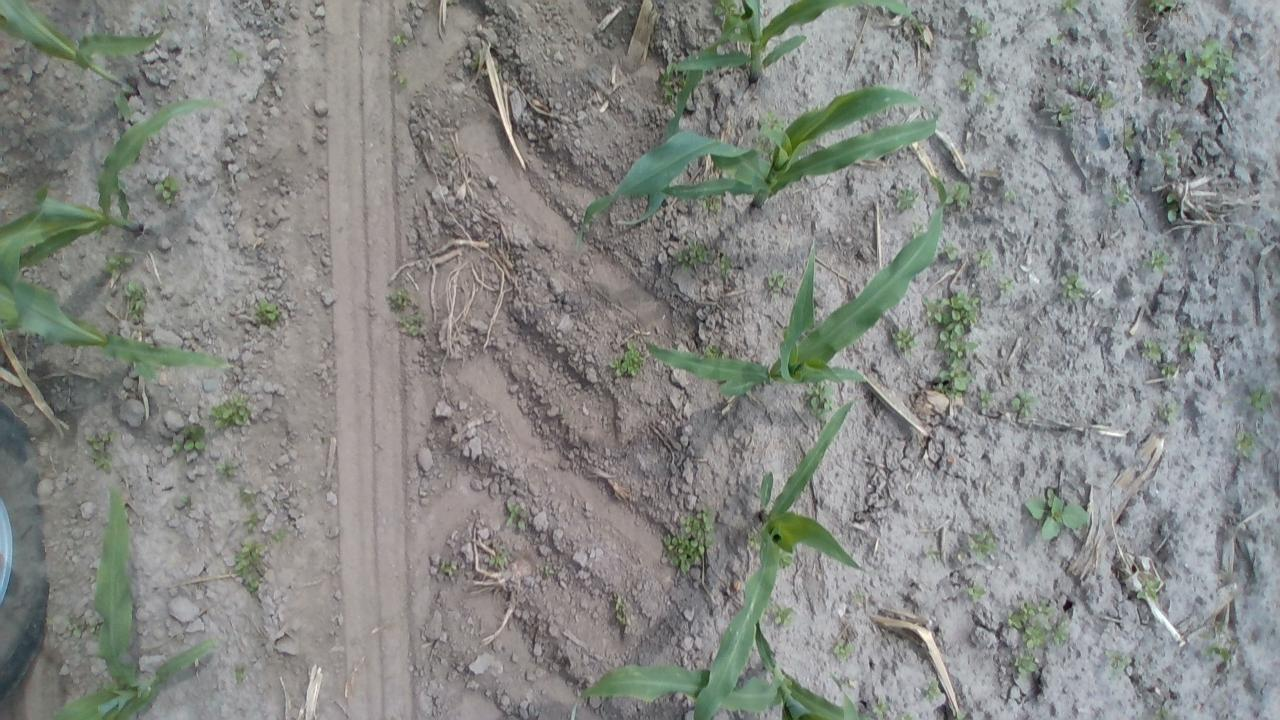Maize: (633, 212, 945, 408), (578, 87, 948, 235), (694, 392, 862, 708), (1, 98, 220, 284), (656, 0, 926, 131), (68, 485, 207, 719), (0, 262, 241, 376), (579, 626, 866, 720), (0, 1, 167, 112)
Weeds: (926, 290, 980, 397), (662, 508, 716, 576), (1026, 488, 1092, 540), (1004, 600, 1070, 652), (1188, 38, 1236, 102), (1139, 47, 1184, 94), (233, 540, 266, 594), (208, 394, 252, 430), (608, 342, 644, 380), (84, 430, 112, 470), (173, 422, 207, 452), (154, 172, 182, 208), (966, 526, 999, 556), (806, 382, 834, 417), (1212, 630, 1240, 662), (125, 282, 146, 323), (677, 240, 710, 266), (944, 179, 971, 209), (252, 298, 283, 324), (1134, 576, 1162, 604), (1010, 391, 1038, 419), (1060, 270, 1086, 299), (1246, 385, 1272, 414), (103, 252, 132, 278), (1012, 650, 1038, 678), (1180, 326, 1206, 354), (504, 500, 528, 530), (1164, 189, 1184, 224), (1144, 248, 1170, 274), (894, 187, 919, 214), (713, 0, 742, 22), (1234, 428, 1256, 457), (892, 327, 918, 351), (659, 69, 682, 96), (398, 312, 423, 336), (1108, 180, 1130, 206), (1156, 151, 1179, 174), (216, 458, 238, 482), (774, 604, 796, 628), (830, 636, 854, 658), (966, 18, 990, 40), (1117, 124, 1137, 150), (694, 195, 721, 214), (957, 70, 978, 94), (226, 45, 248, 67), (1140, 338, 1162, 360), (920, 679, 943, 700), (768, 270, 788, 294), (388, 288, 410, 309), (761, 110, 784, 130), (612, 598, 628, 626), (1108, 652, 1130, 672), (976, 248, 996, 270), (702, 340, 723, 360), (238, 485, 255, 509), (1159, 359, 1179, 379), (1156, 402, 1178, 420), (1147, 0, 1177, 13), (1097, 92, 1116, 112), (1057, 101, 1075, 122), (976, 390, 994, 410), (1056, 0, 1080, 15), (966, 582, 986, 600), (869, 700, 890, 717), (922, 547, 944, 563), (996, 274, 1015, 292), (244, 514, 262, 532), (489, 549, 506, 568), (270, 528, 290, 544), (718, 255, 733, 276), (748, 528, 762, 550), (981, 90, 998, 108), (178, 494, 194, 513), (436, 558, 454, 574), (392, 30, 410, 46), (944, 240, 958, 260), (232, 664, 246, 684), (393, 70, 408, 88), (780, 552, 796, 567), (1168, 126, 1184, 141), (1001, 186, 1016, 202), (1153, 706, 1173, 718), (1050, 32, 1065, 47), (541, 562, 557, 576)
